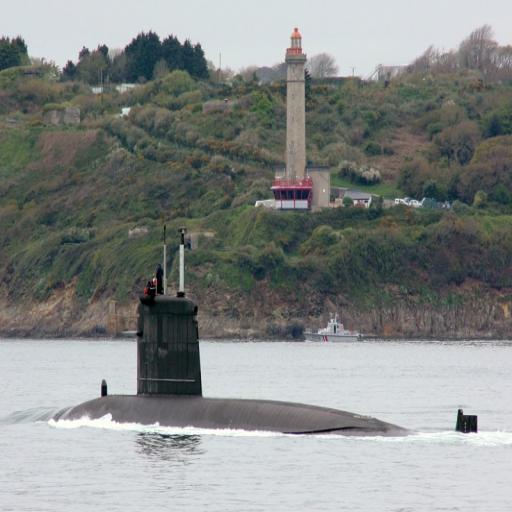submarine: (53, 225, 481, 433)
